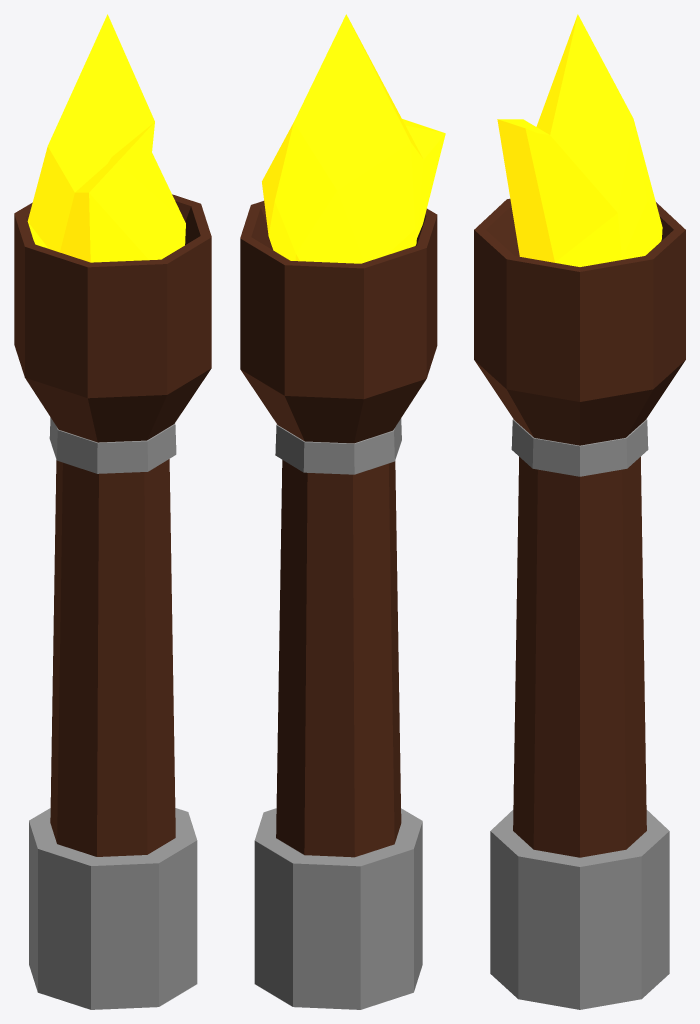
File: torch.fbx
3 views of the same model, side by side, from view 1: azimuth 30°, elevation 25°; view 2: azimuth 150°, elevation 25°; view 3: azimuth 270°, elevation 25° (orthographic).
Visible parts, largest first — view 1: Cube; view 2: Cube; view 3: Cube.
Boxes of the visible parts, <box> form: Cube: <box>14,14,211,1009</box>; Cube: <box>240,14,445,1009</box>; Cube: <box>474,14,685,1009</box>.
Bounding box in the file's own units: 236 × 1231 × 247.
